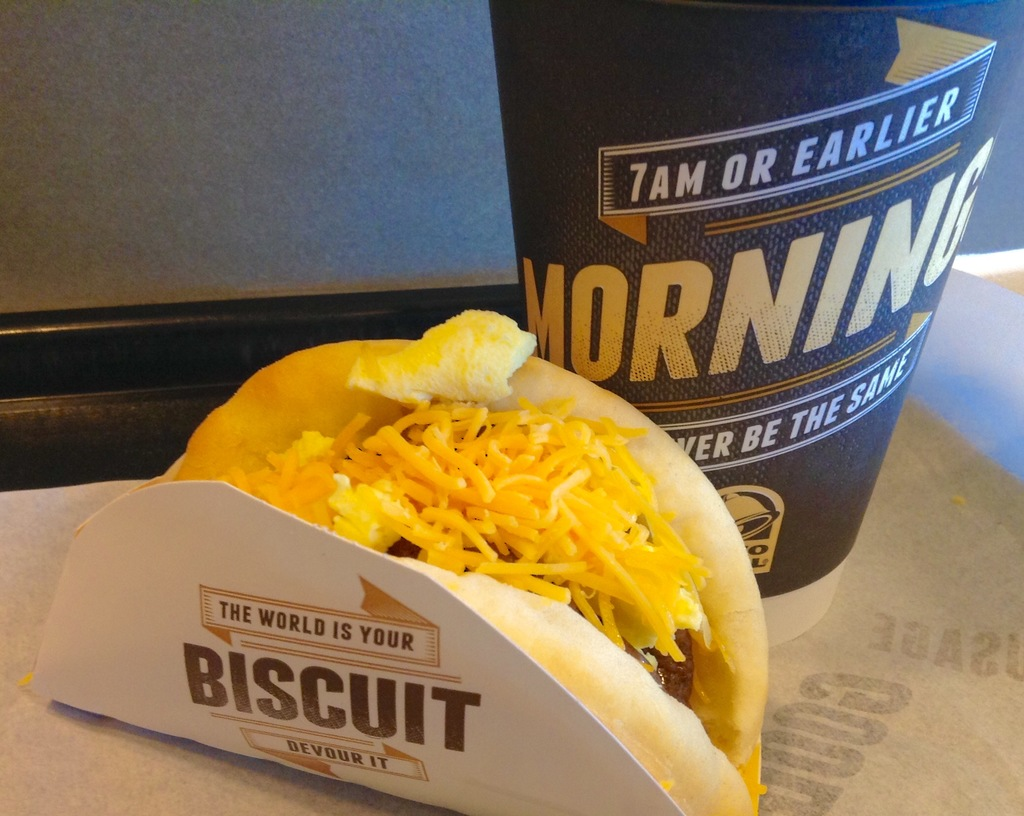French fries: (209, 380, 707, 711)
